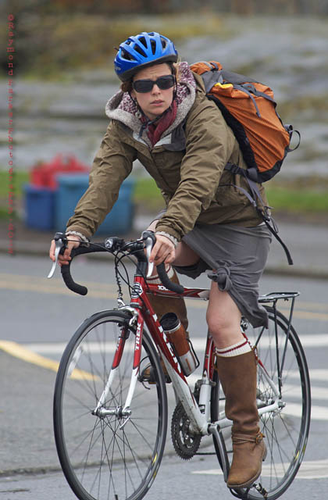bikerider: (43, 28, 312, 499)
